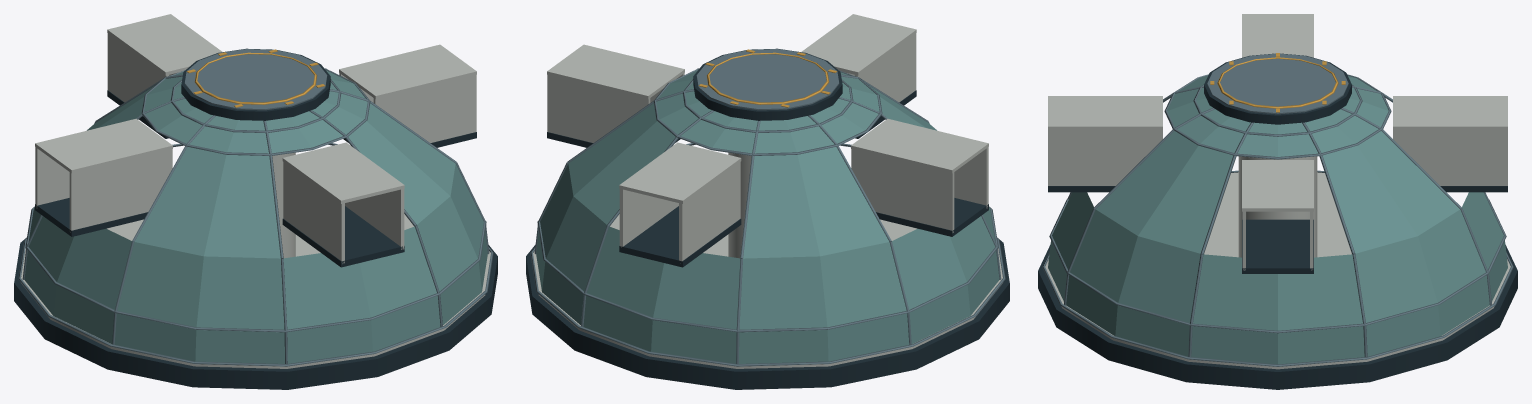
The model's file is biosphere_d0_lod2.glb.
3 views of the same model, side by side, from view 1: azimuth 30°, elevation 25°; view 2: azimuth 150°, elevation 25°; view 3: azimuth 270°, elevation 25° (orthographic).
Parts seen in each view (by area): view 1: BODY; view 2: BODY; view 3: BODY.
Part boxes in pixels (x1,y1,x2,y2): BODY: (14, 14, 497, 389); BODY: (526, 14, 1009, 389); BODY: (1038, 14, 1517, 389).
Bounding box in the file's own units: 29.2 × 13.88 × 29.2.
